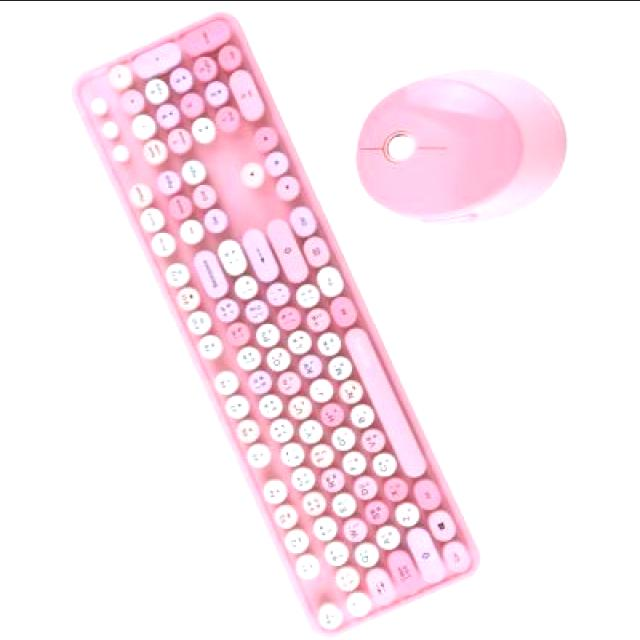keyboard: (64, 6, 486, 640)
